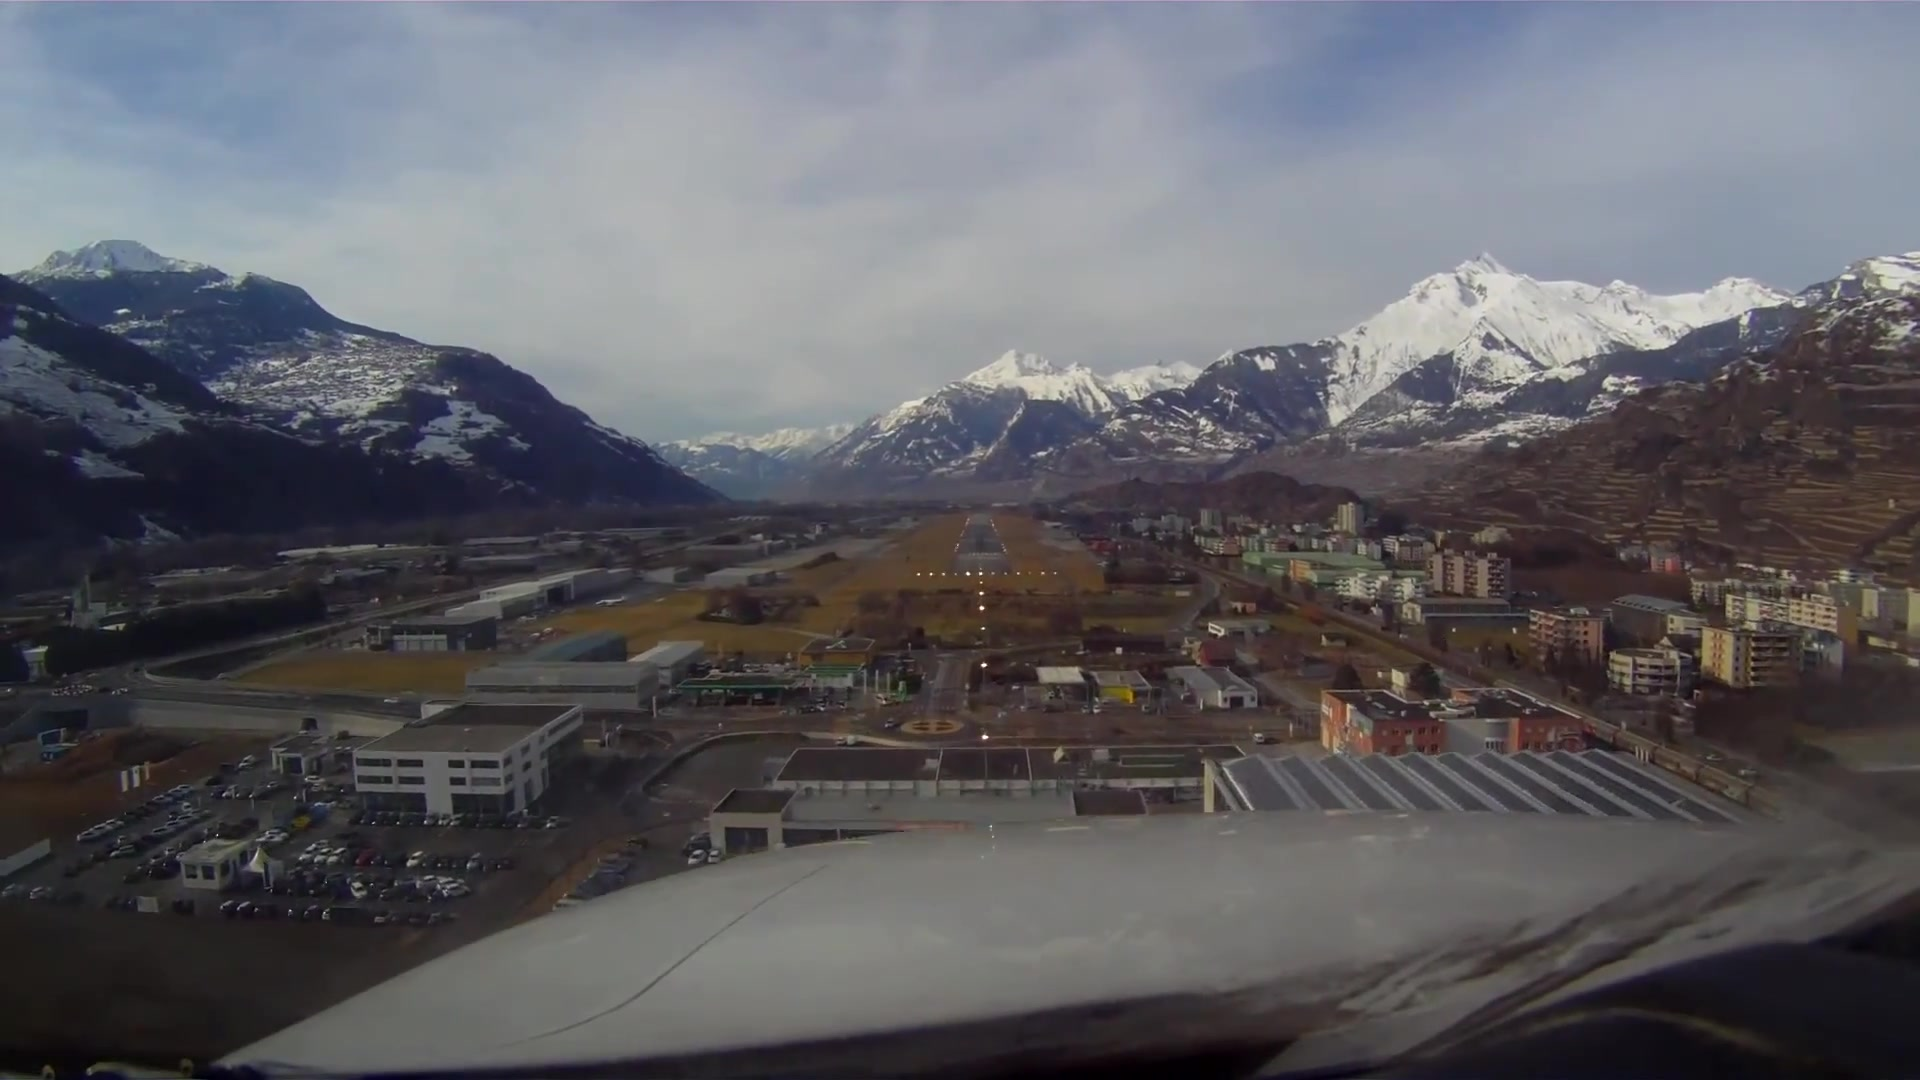runway: (949, 512, 1006, 568)
